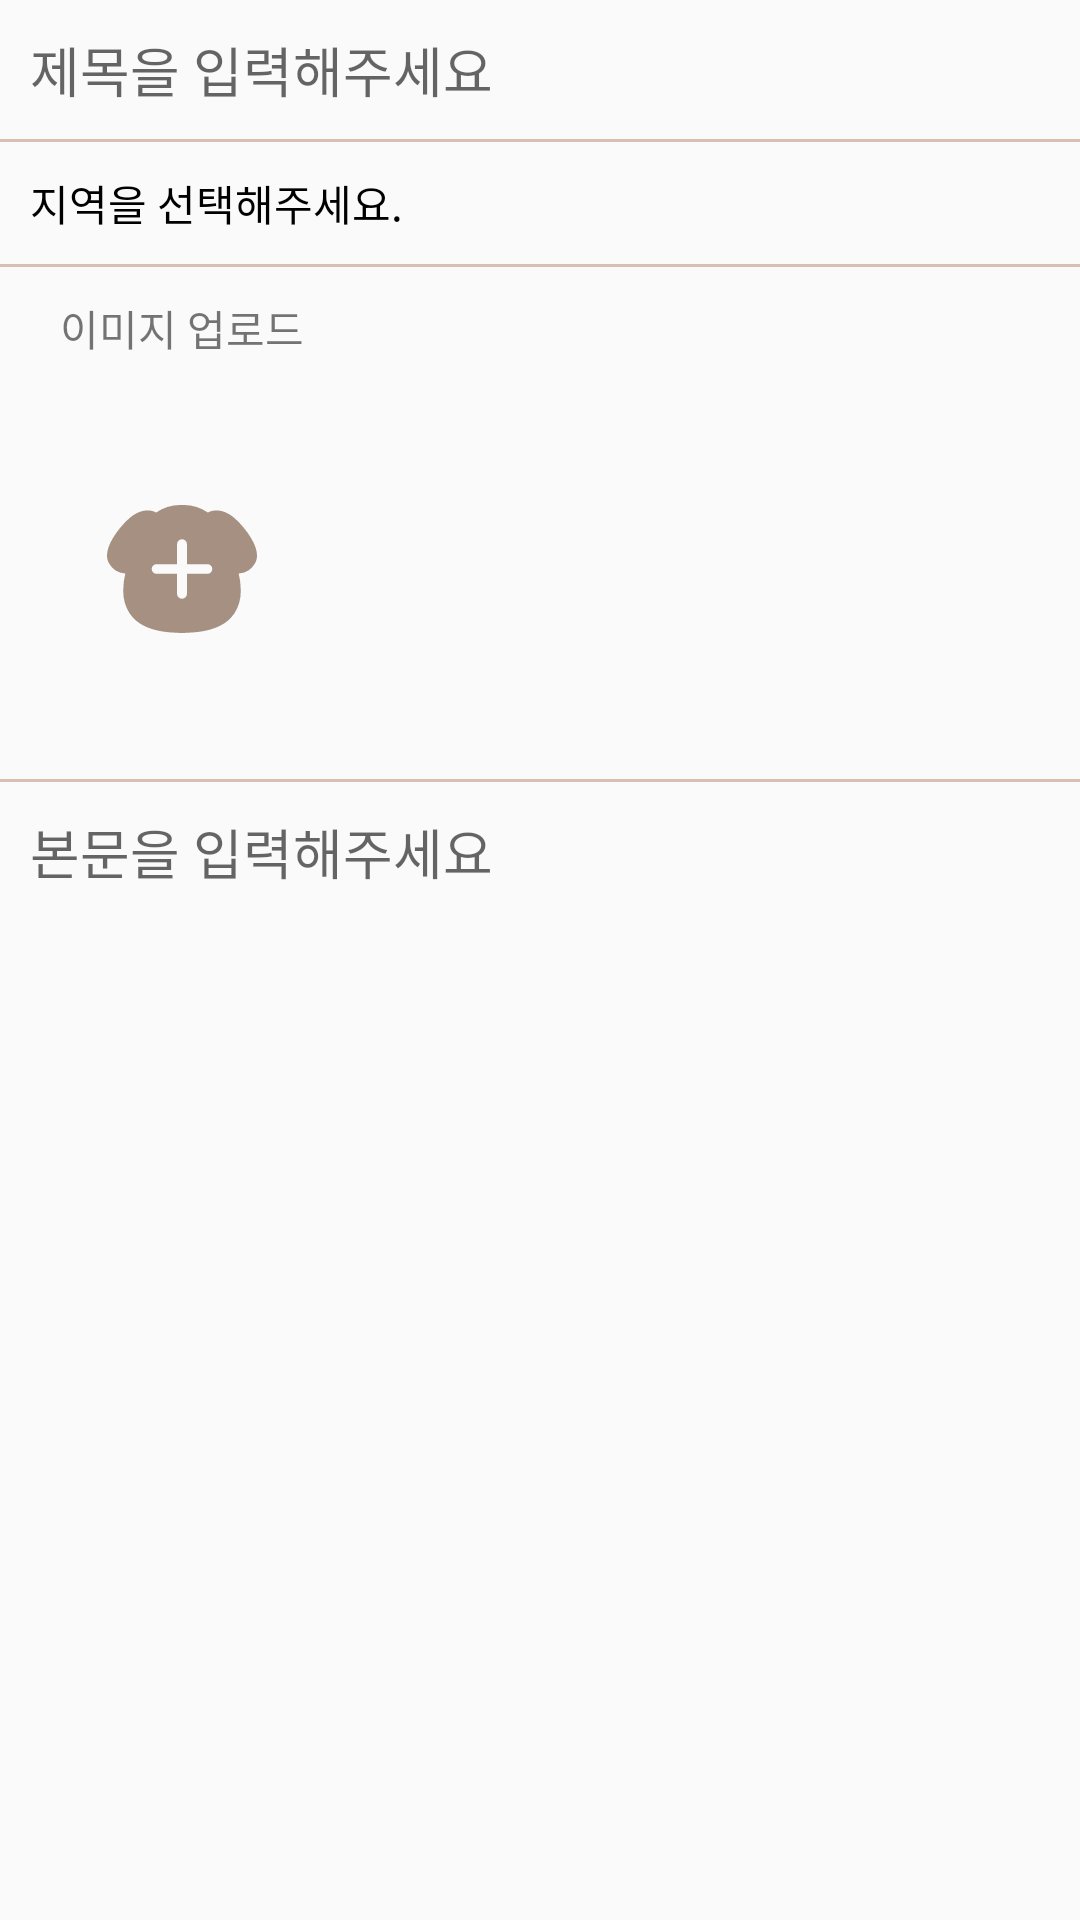

Icon click points for this 1080 × 1920 phone screenshot, format [x,y]:
dog plus: [182,569]
